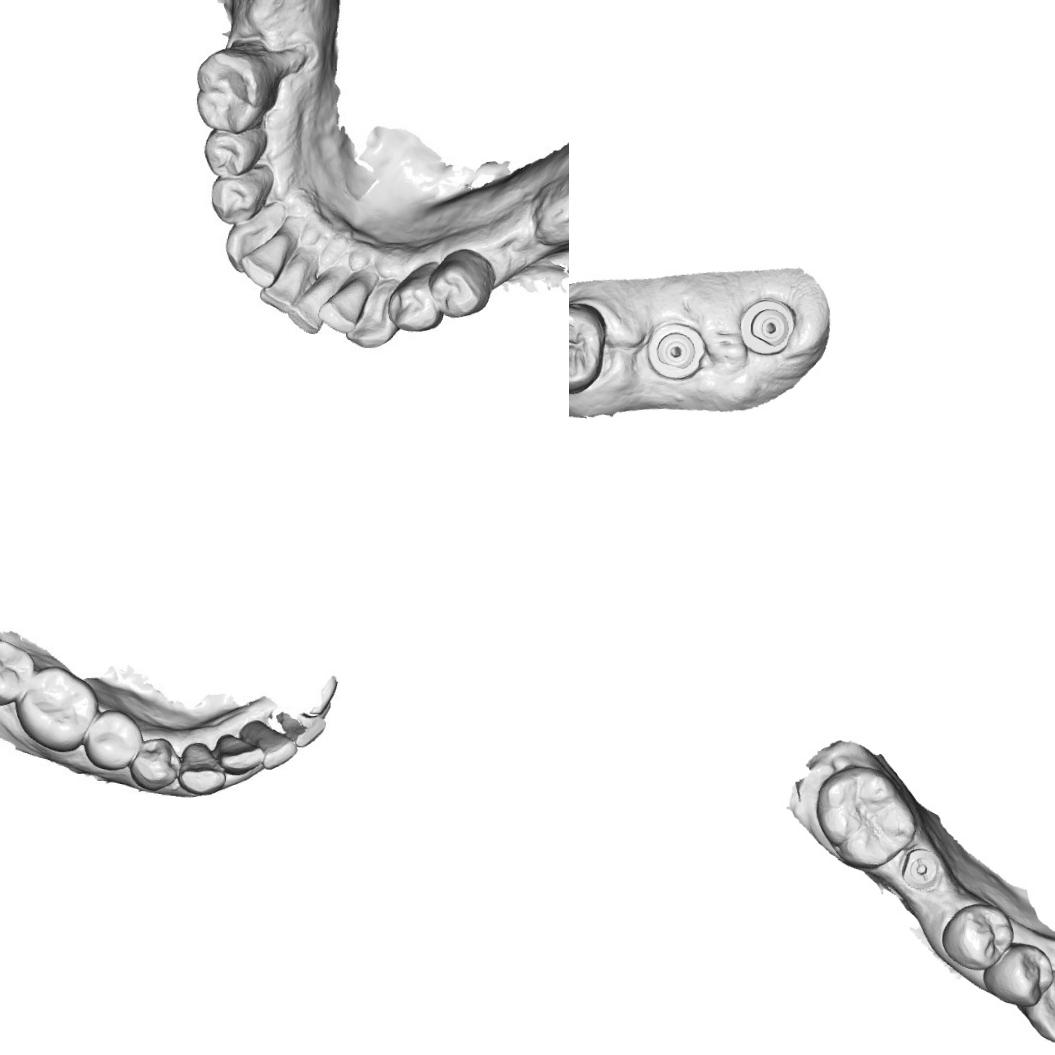canine: (348, 280, 402, 350), (218, 210, 274, 277), (1019, 969, 1055, 1048), (176, 742, 226, 796)
implant: (738, 294, 798, 358), (644, 319, 705, 380)
implant_minus: (898, 844, 942, 890)
incisor: (295, 270, 343, 336), (259, 252, 310, 314), (240, 226, 290, 287), (324, 271, 375, 330), (239, 720, 300, 768), (216, 733, 263, 777)
molar: (810, 762, 920, 871), (15, 664, 96, 754), (195, 52, 272, 134), (0, 636, 30, 709)
premolar: (936, 898, 1016, 974), (980, 939, 1051, 1007), (430, 249, 492, 324), (569, 298, 611, 394), (84, 706, 144, 772), (390, 260, 440, 334), (127, 737, 180, 792), (204, 127, 260, 179), (211, 170, 267, 222)
